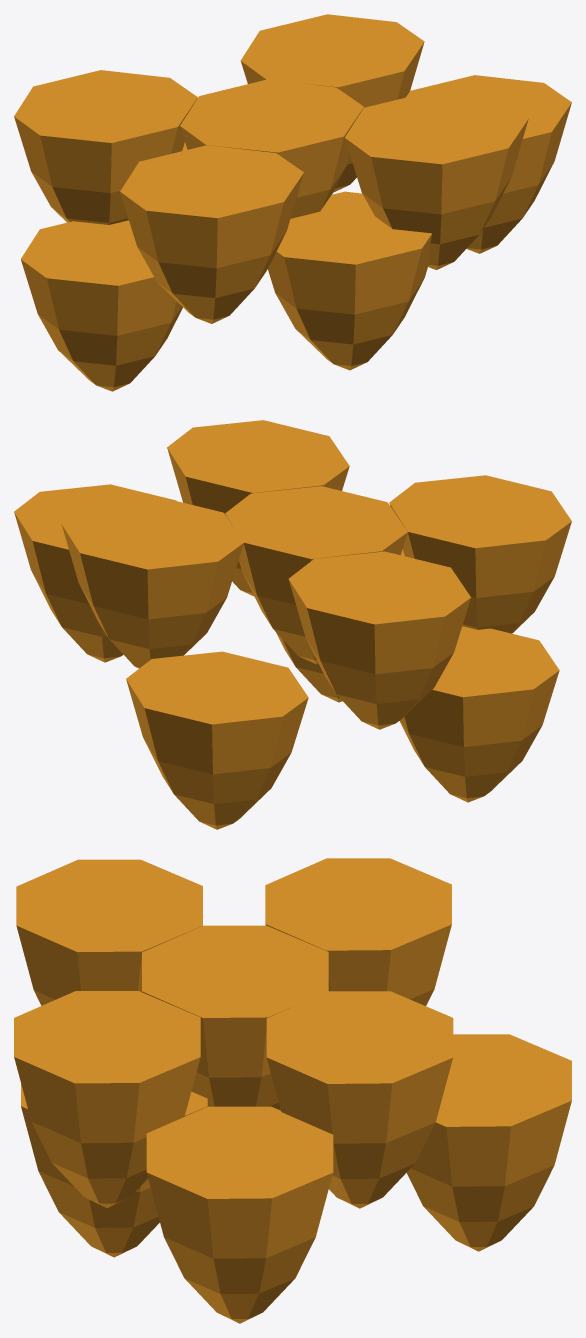
Rendered from honeyCombish.fbx.
3 renders of one model, top to bottom at view 1: azimuth 30°, elevation 25°; view 2: azimuth 150°, elevation 25°; view 3: azimuth 270°, elevation 25°, orthographic. The views are drawn at different scales.
Visible parts, largest first — view 1: Vert.002; view 2: Vert.002; view 3: Vert.002.
Part boxes in pixels (x1,y1,x2,y2): Vert.002: (14,14,571,391); Vert.002: (14,420,571,829); Vert.002: (14,858,571,1323).
Size of the model in its own units: 2324 by 1019 by 1785.
